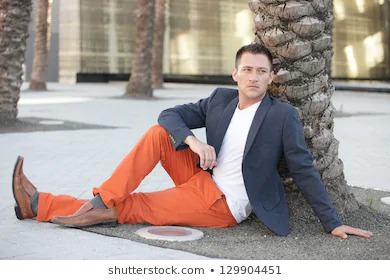F_M_suit jacket: (156, 83, 347, 239)
